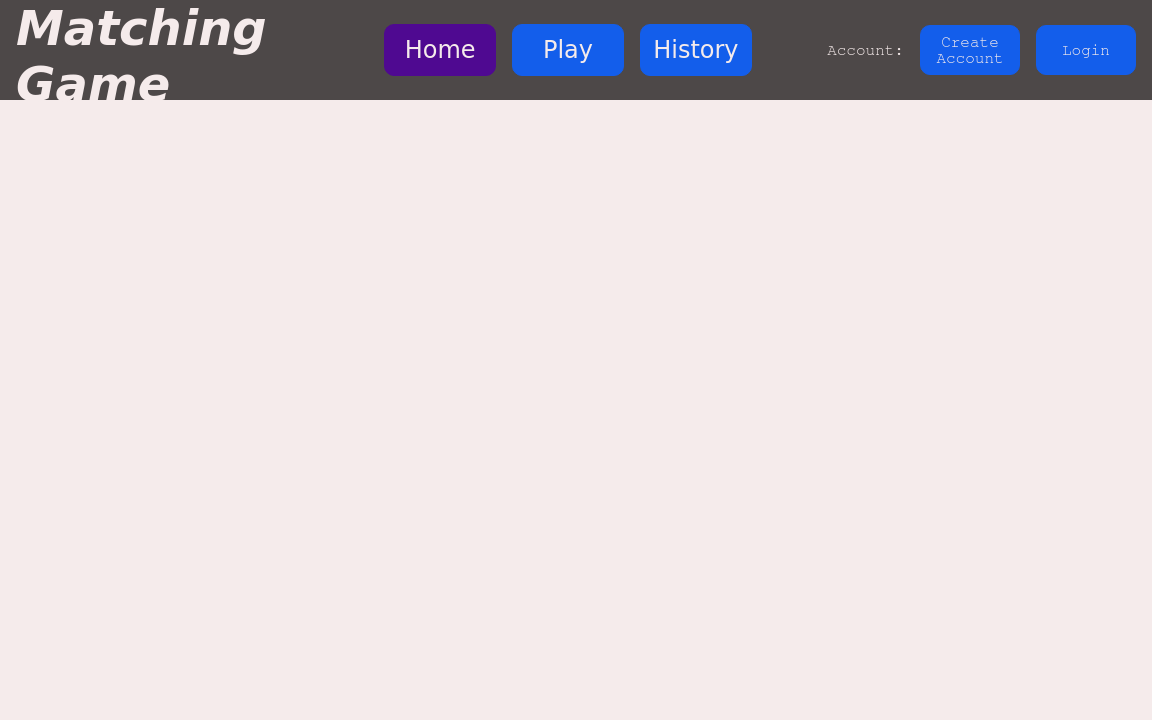
Test: Header component › Tests when the user is logged out › Testing the Login Modal › Clicking the Login button opens the Login modal successfully
Click the button "Login".
click(1086, 50)  # box 1036,25 -> 1136,75
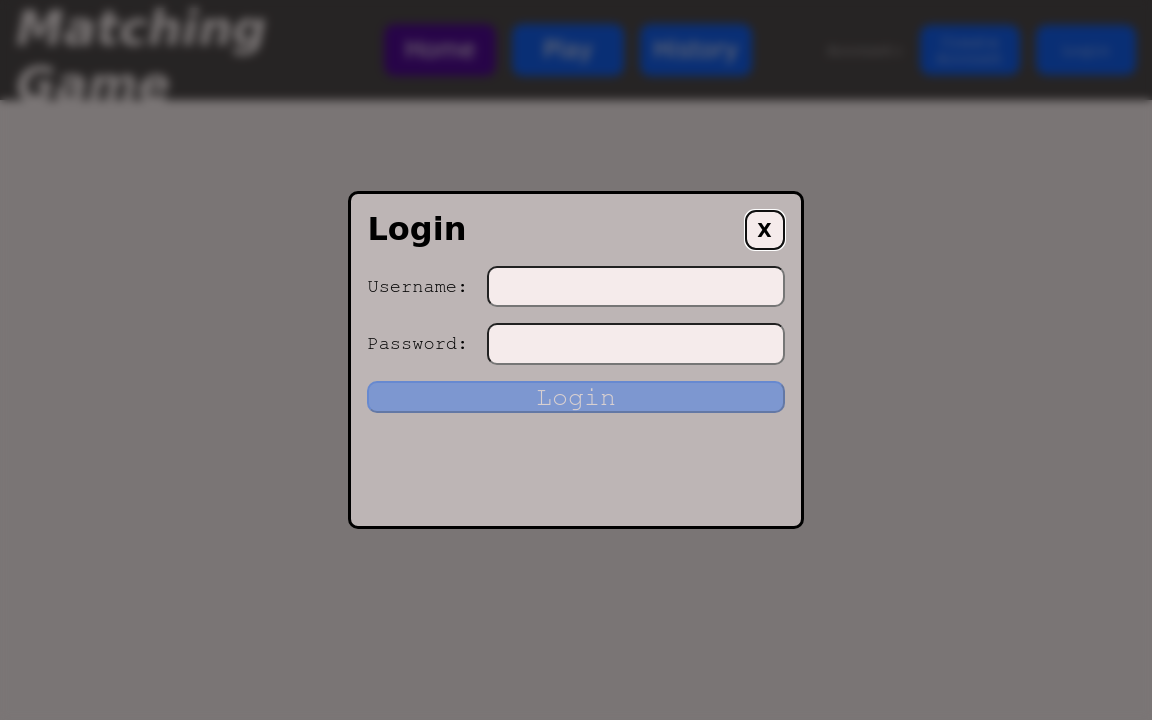
Result: the dialog "Login X Username: Password: Login" is shown at 348,191 -> 804,529
